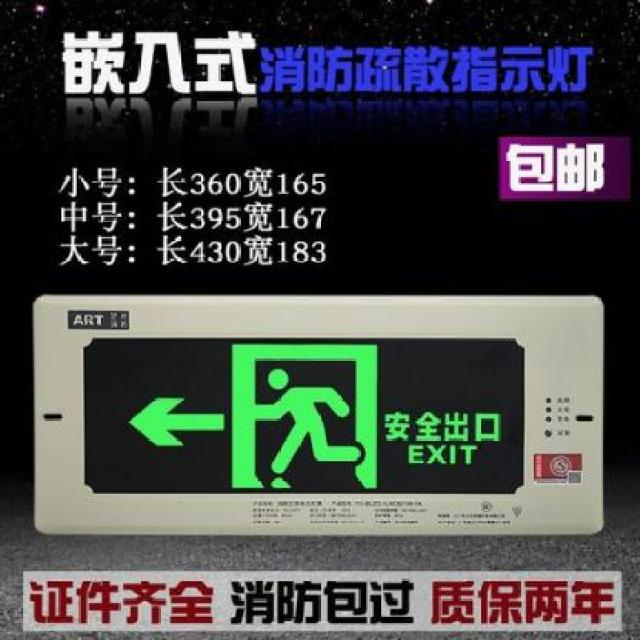exit_sign: (76, 334, 526, 496)
